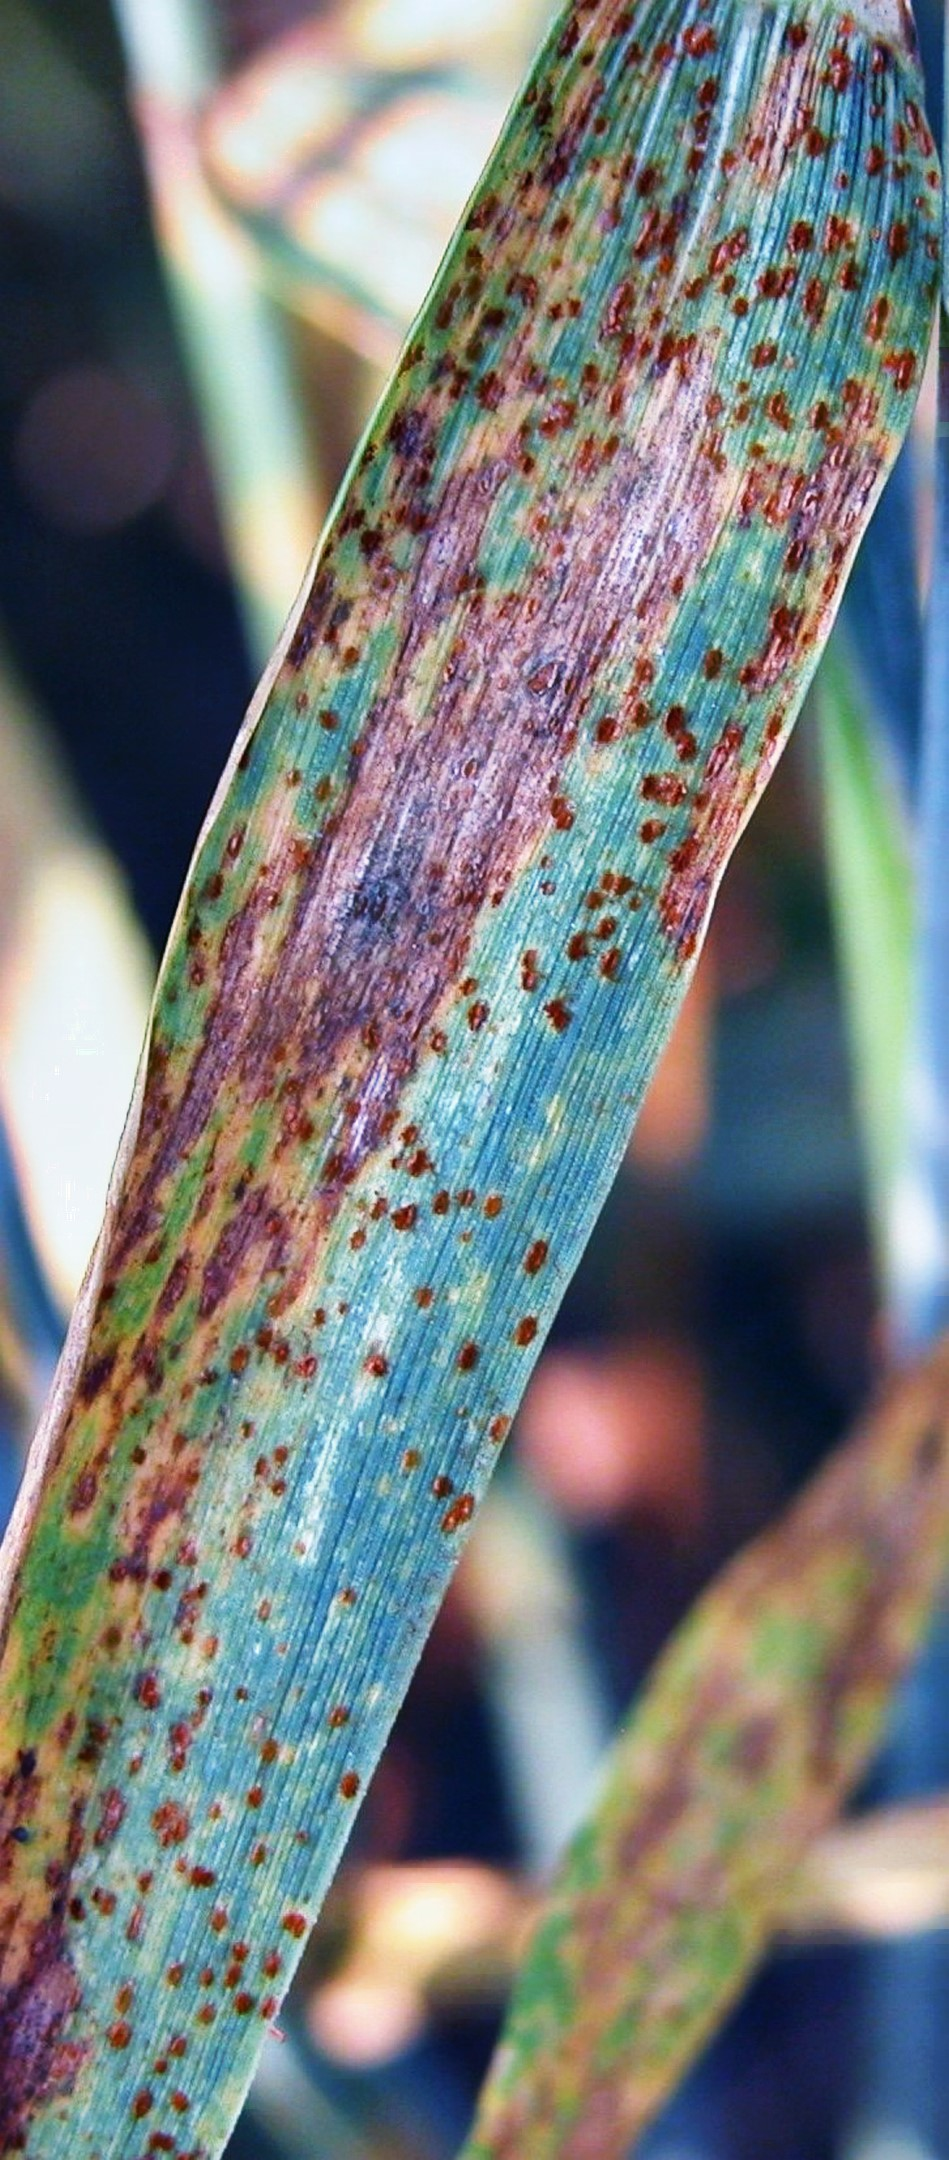Leaf Rust: (105, 266, 908, 1726)
